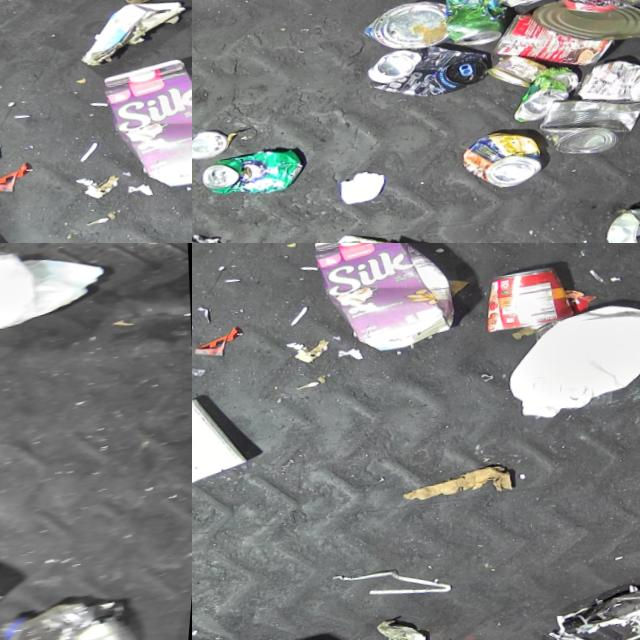can: (492, 2, 624, 79), (367, 38, 496, 105), (539, 89, 640, 161), (480, 264, 581, 335), (203, 146, 312, 202), (462, 128, 552, 194), (533, 0, 640, 51), (362, 0, 455, 56), (512, 65, 588, 124), (577, 53, 640, 116), (443, 0, 515, 51), (489, 51, 554, 94), (192, 127, 235, 161), (474, 0, 567, 13), (611, 204, 640, 243)
milk_jug: (500, 298, 640, 425), (0, 243, 113, 338)
non_white_jug: (306, 243, 469, 359)
plastic_bottle: (0, 592, 154, 640)
